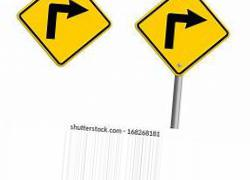right: (132, 1, 230, 76)
